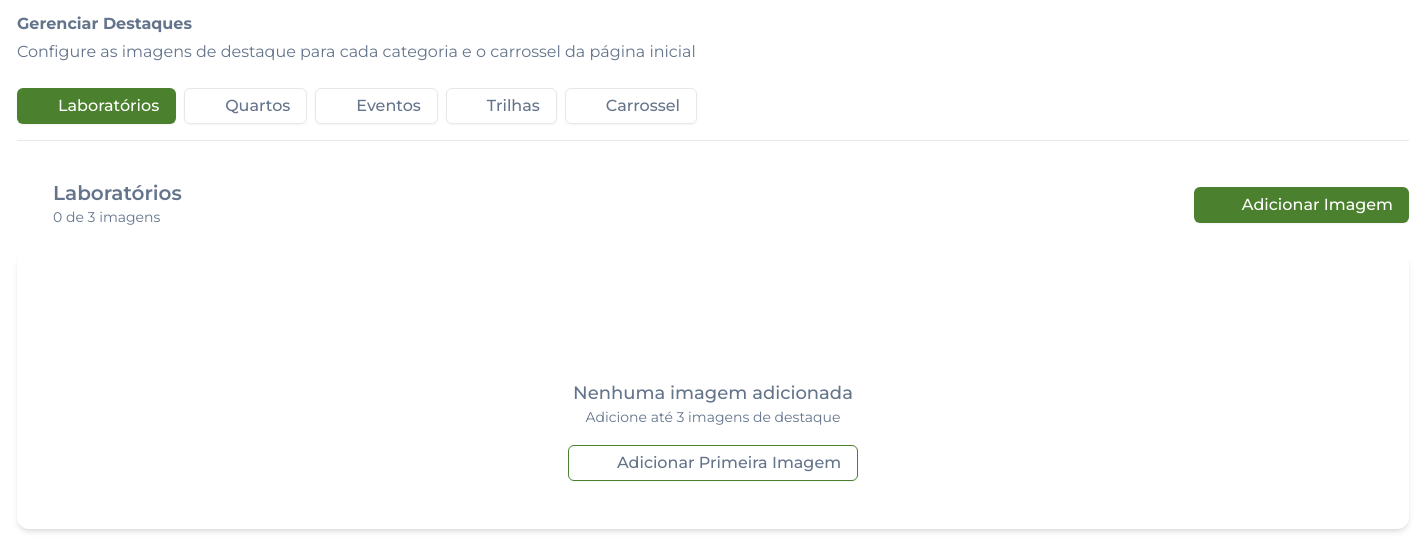
Test: Admin Highlights Route › displays details for trilha and carrossel categories
Click the button "Trilhas" at [501, 106], box [446,88,557,124]
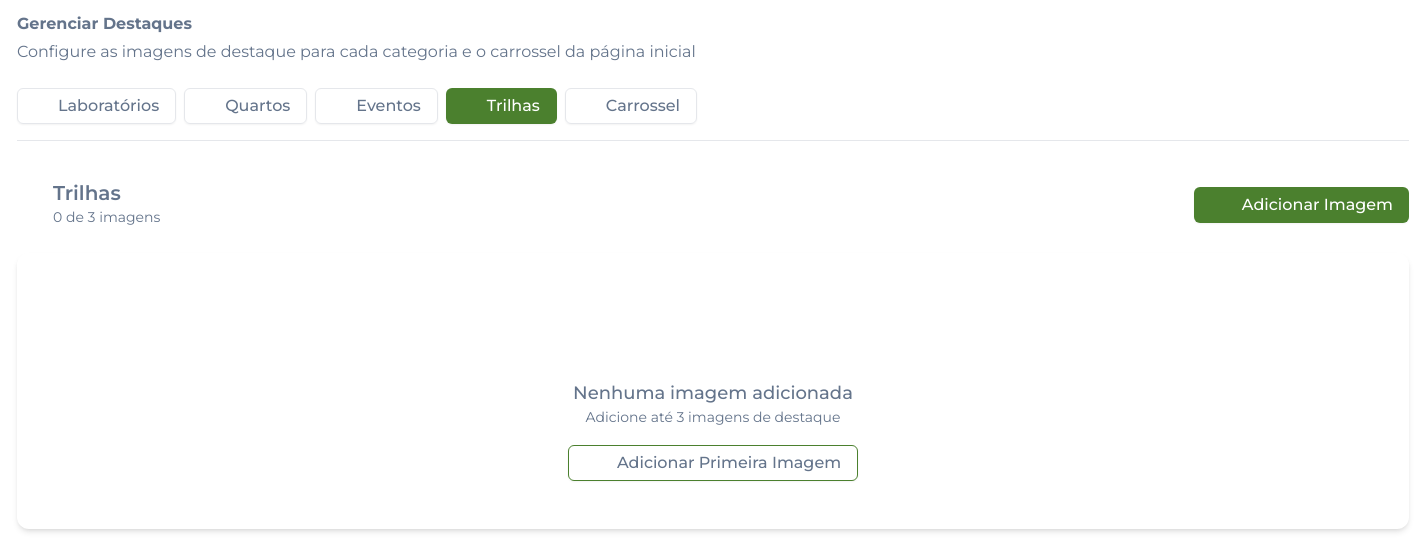
expect the text "Nenhuma imagem adicionada" is shown: met, box [573,381,853,405]
Click the button "Carrossel" at [631, 106], box [565,88,697,124]
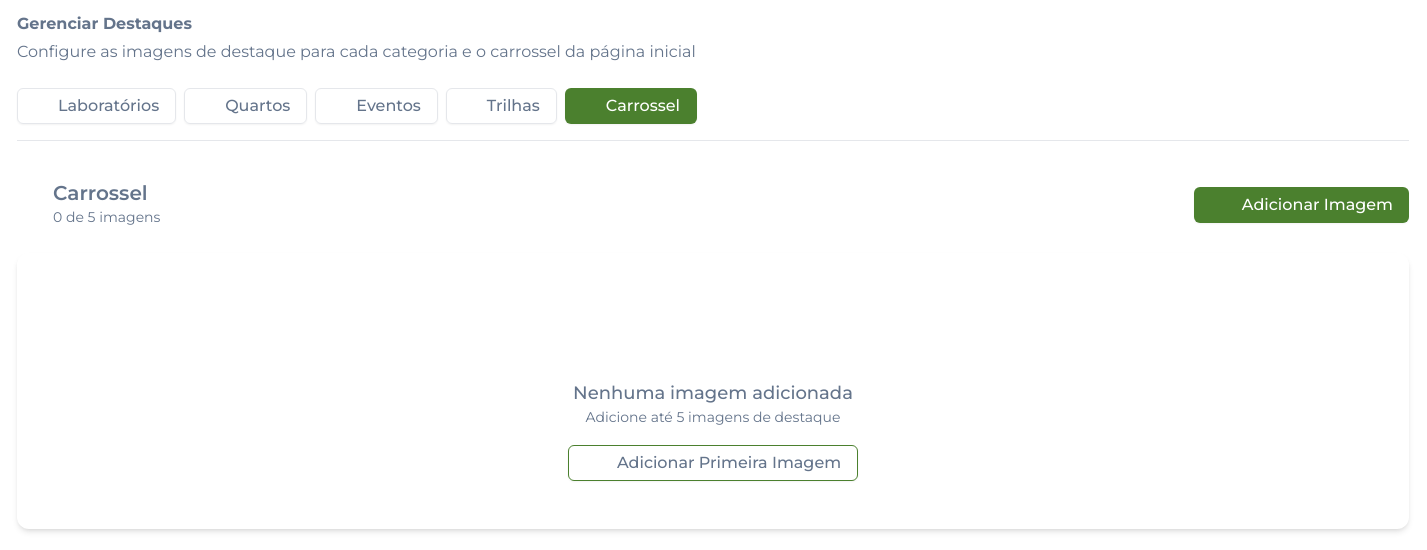
expect the text "Adicione até 5 imagens de destaque" is shown: met, box [586,405,840,429]
